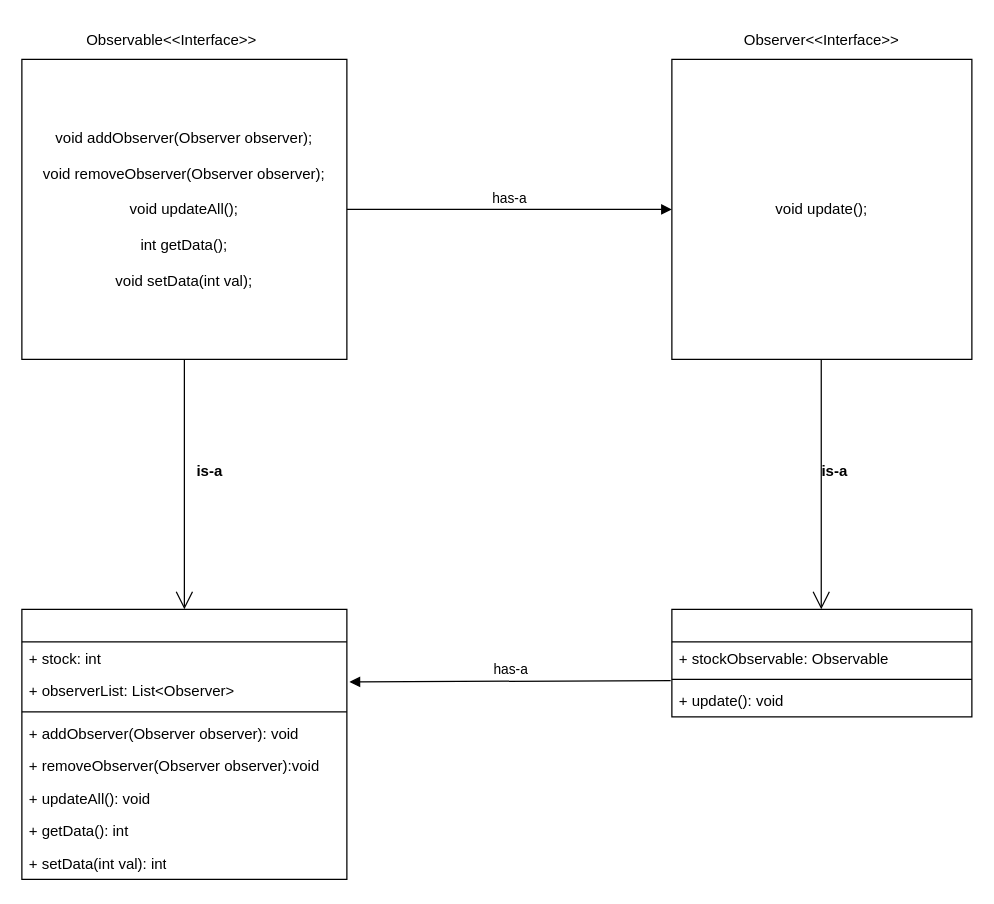
Image size: 994x904. Some labels were removed from this diagram. The shapes that lost their labels are listed below. From the top down, each one's box as (x1, y1, x2, y2) in pixels, then its label:
(671, 608, 972, 717): EmailObserver
(21, 608, 347, 879): StockObserable
